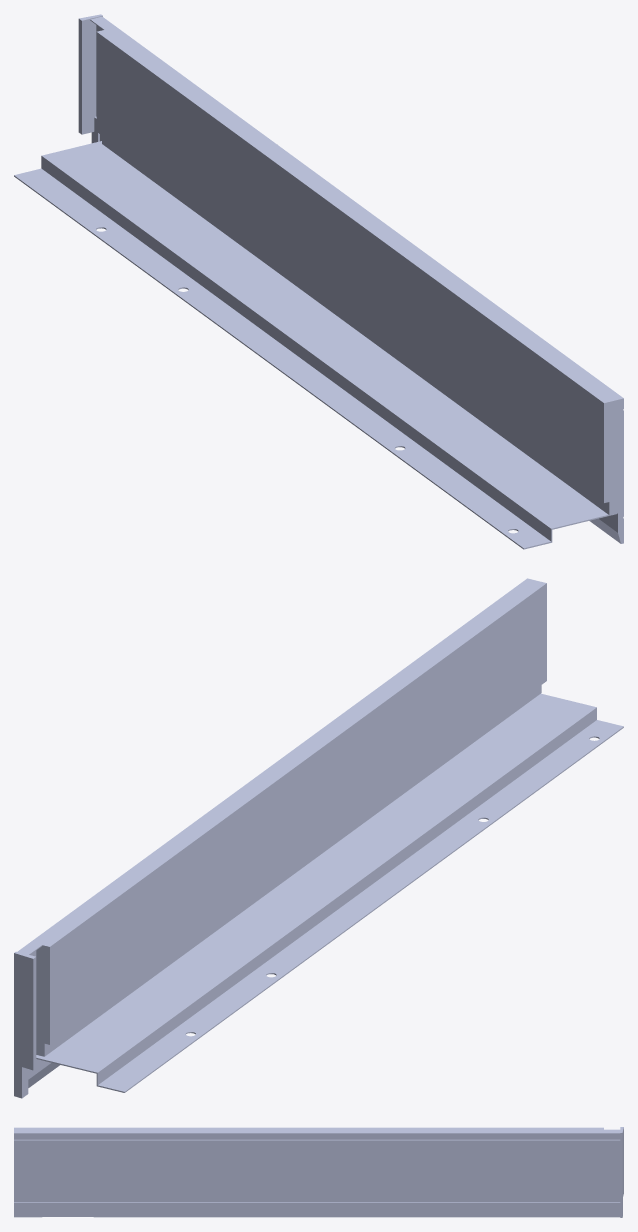
File: lg-kava-M600-m.glb
The picture shows the model from 3 angles, top to bottom: view 1: azimuth 30°, elevation 25°; view 2: azimuth 150°, elevation 25°; view 3: azimuth 270°, elevation 25°; orthographic projection. The views are drawn at different scales.
Parts seen in each view (by area): view 1: 46228986; view 2: 46228986; view 3: 46228986.
Part boxes in pixels (bbox=[...]): 46228986: bbox=[14, 14, 623, 549]; 46228986: bbox=[14, 578, 623, 1098]; 46228986: bbox=[14, 1127, 623, 1217].
Bounding box in the file's own units: 0.0653 × 0.0912 × 0.5935.
